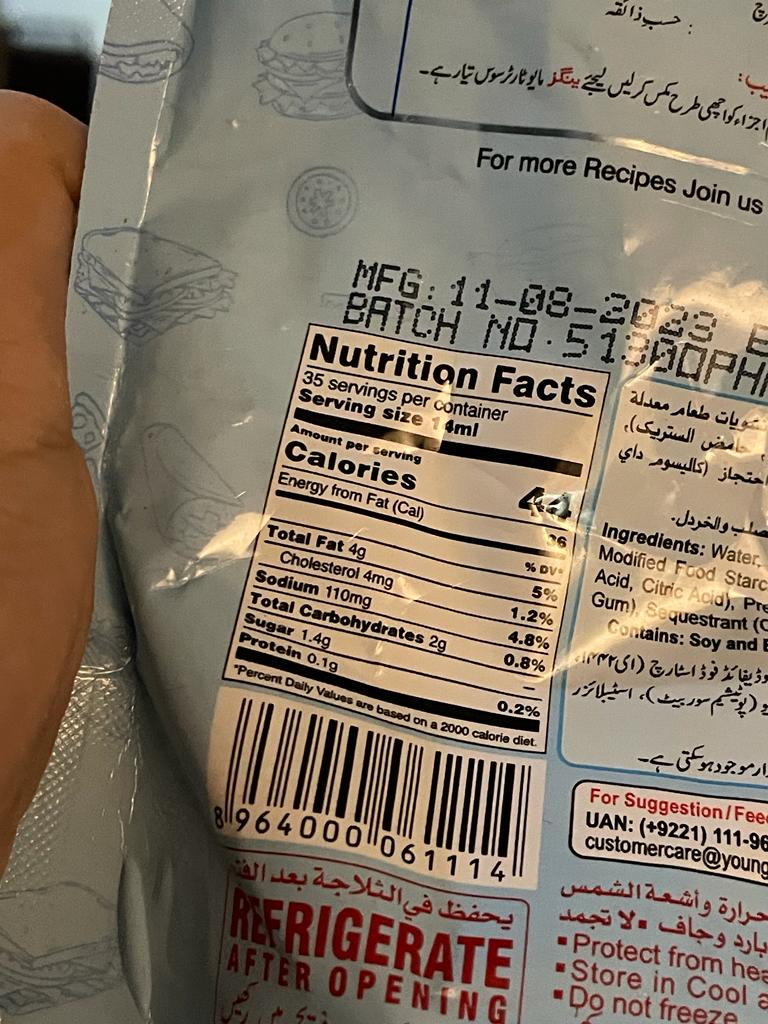table: (213, 306, 612, 751)
